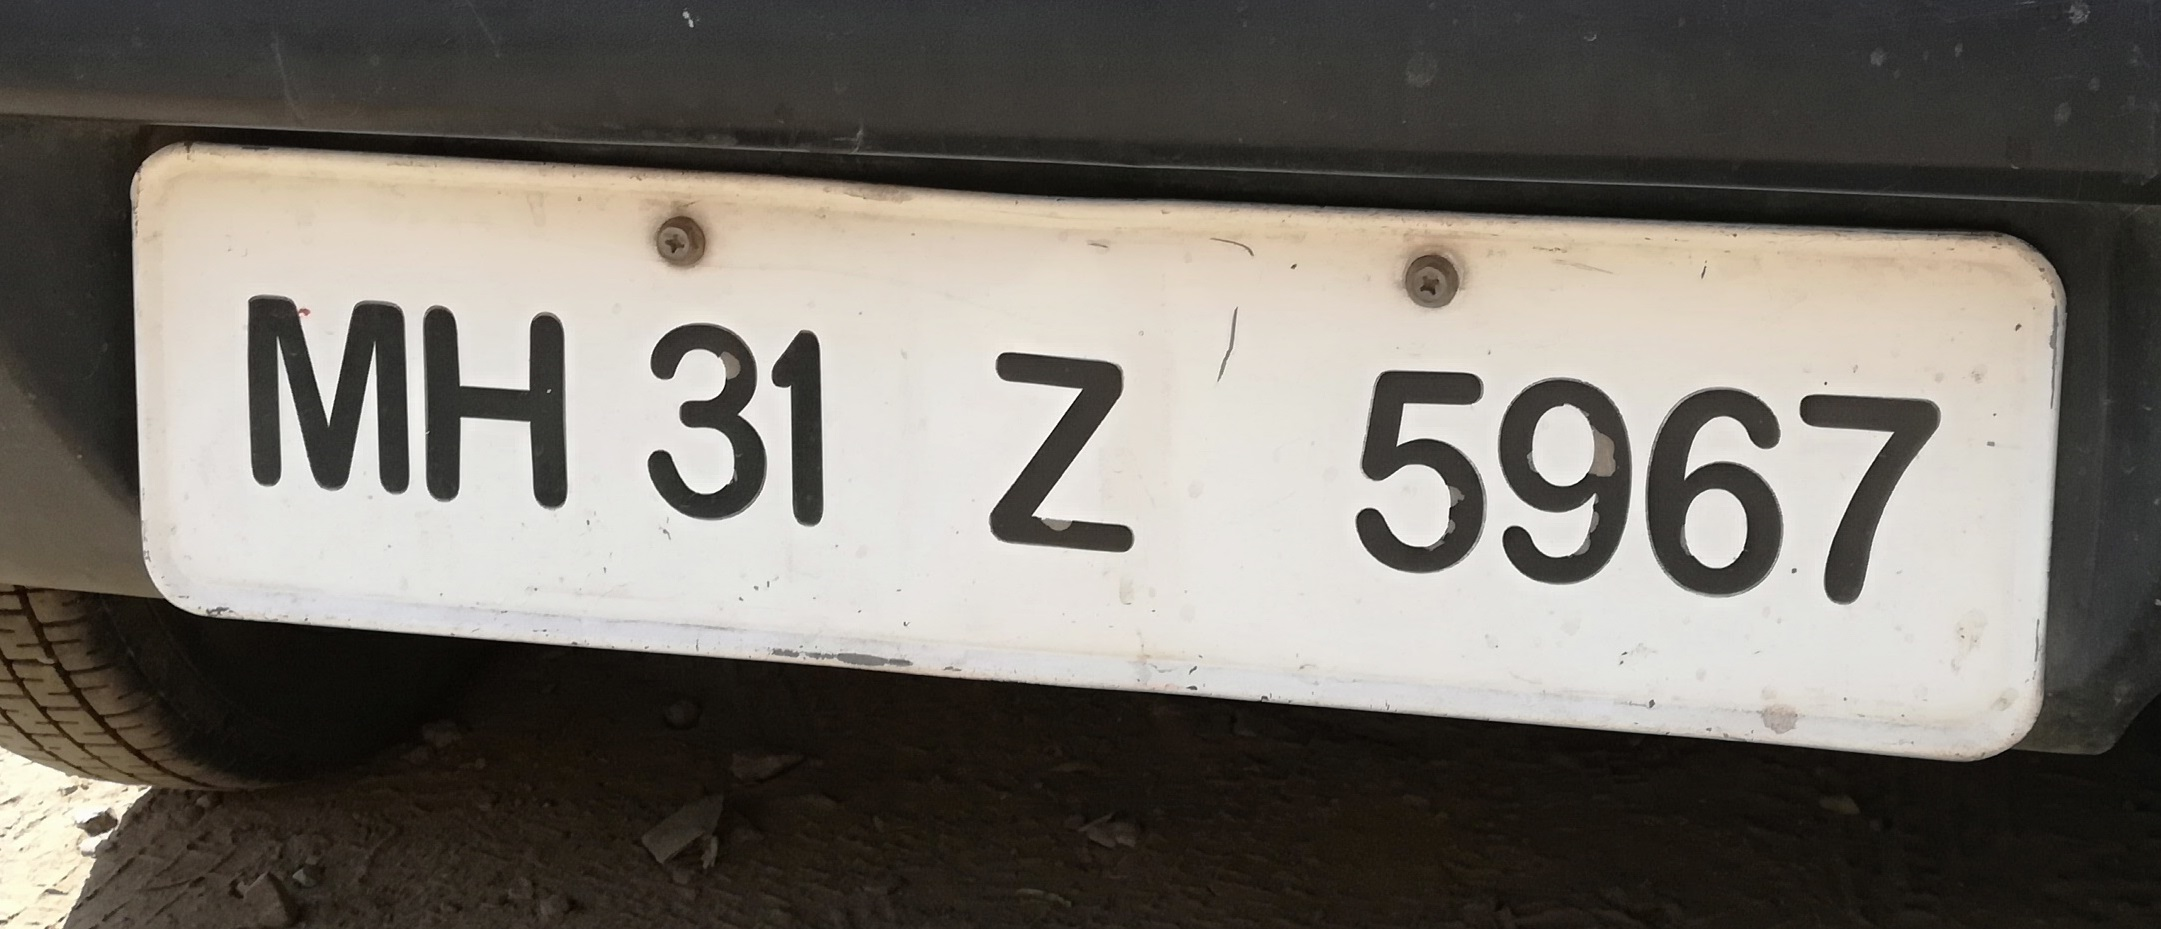numberplate: (125, 143, 2071, 776)
